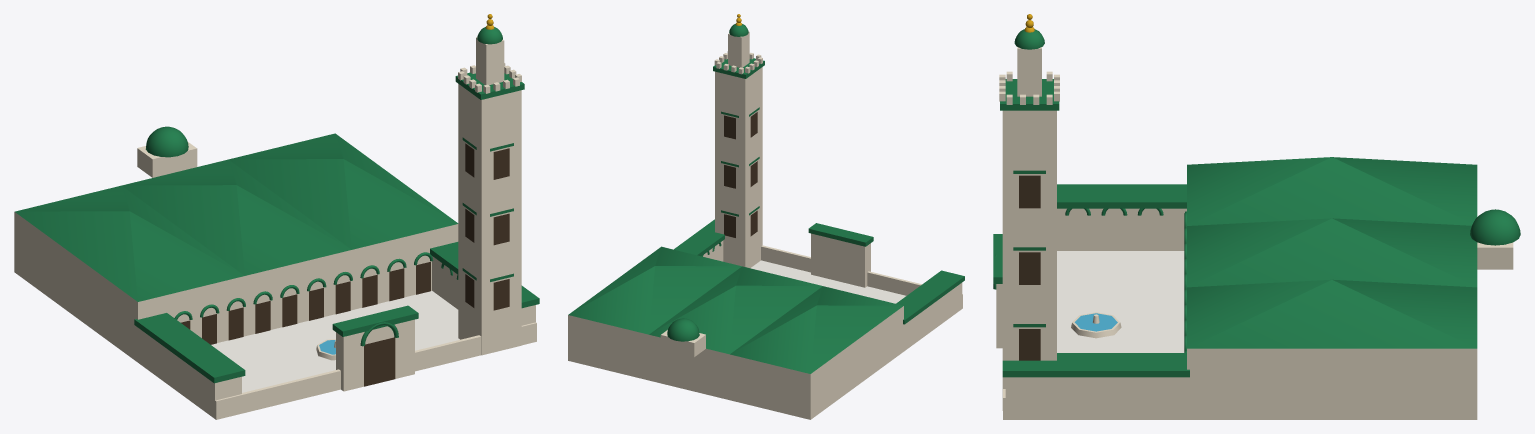
The model's file is treich-mosquee-m6.glb.
3 renders of one model, left to right at view 1: azimuth 30°, elevation 25°; view 2: azimuth 150°, elevation 25°; view 3: azimuth 270°, elevation 25°, orthographic. The views are drawn at different scales.
Size of the model in its own units: 73 by 70.3 by 87.23.
